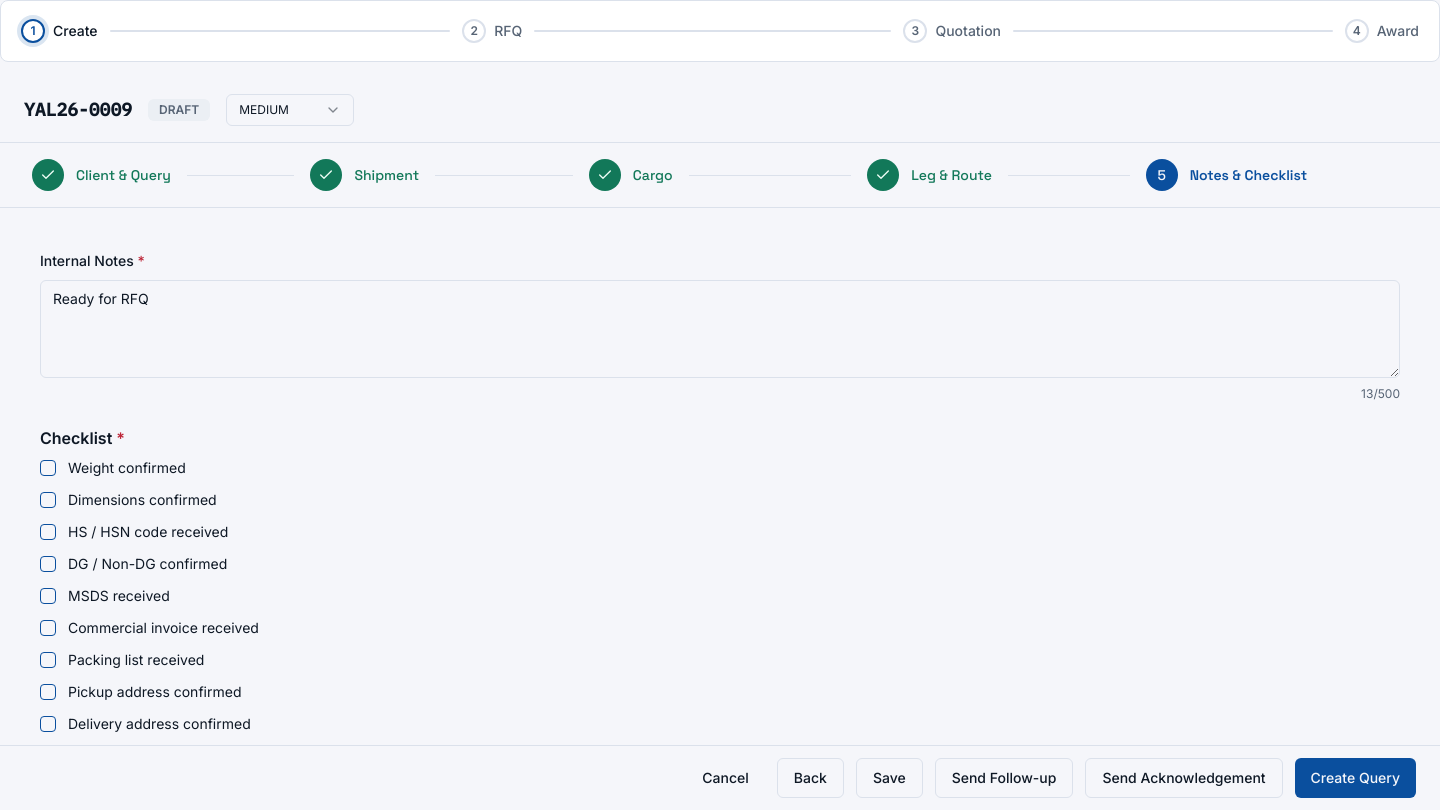
Test case: QueryWizardPage › Create Query → server returns 422 blocking findings → renders server finding, status stays DRAFT
// Wait for the page to load (fullDraftDetail passes client-side preview)
Click the button "Create Query" at [1355, 778], box [1295, 758, 1416, 798]
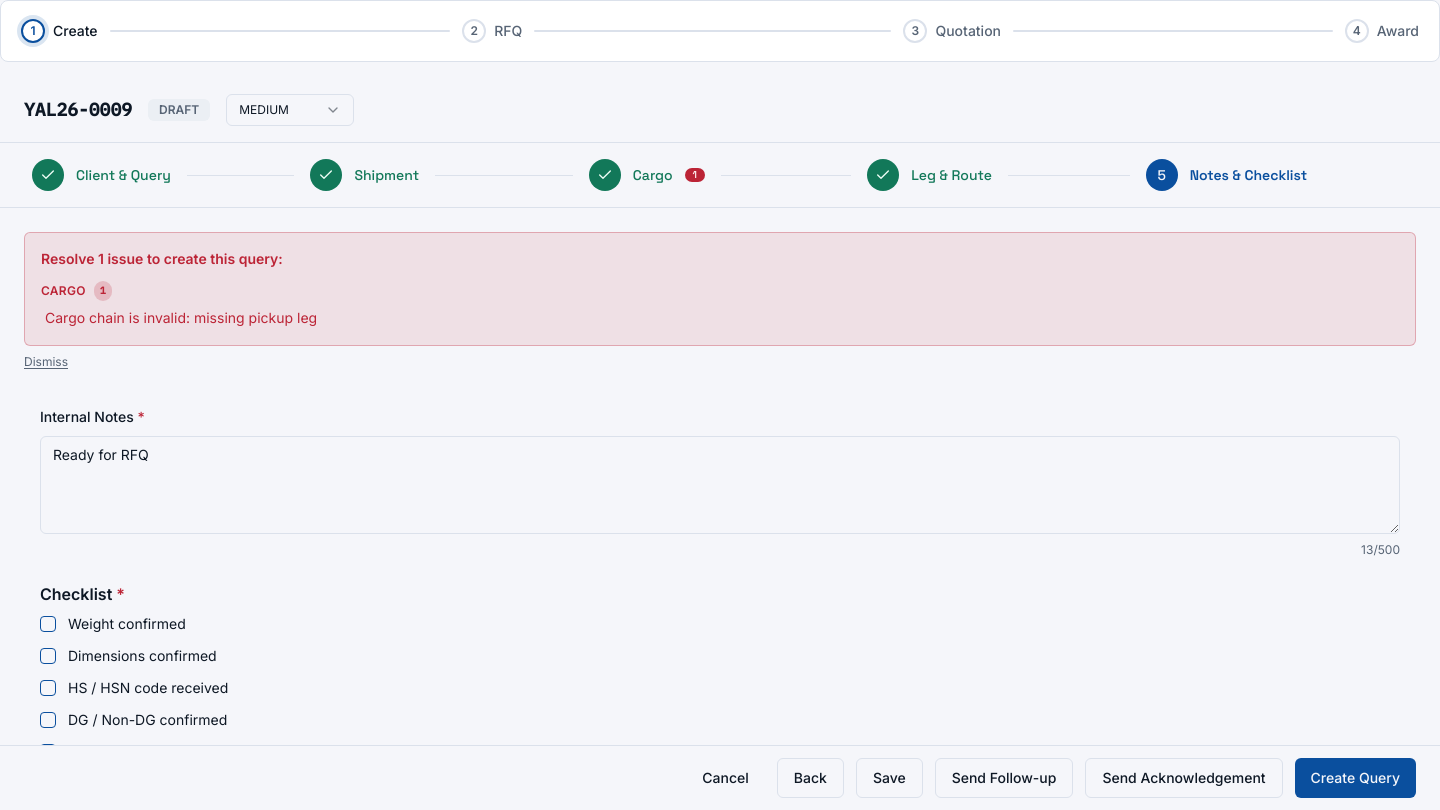
Expected: the text "DRAFT" is shown, [148, 99, 210, 121]
Expected: the button "Cargo chain is invalid: missing pickup leg" is shown, [45, 308, 317, 328]
